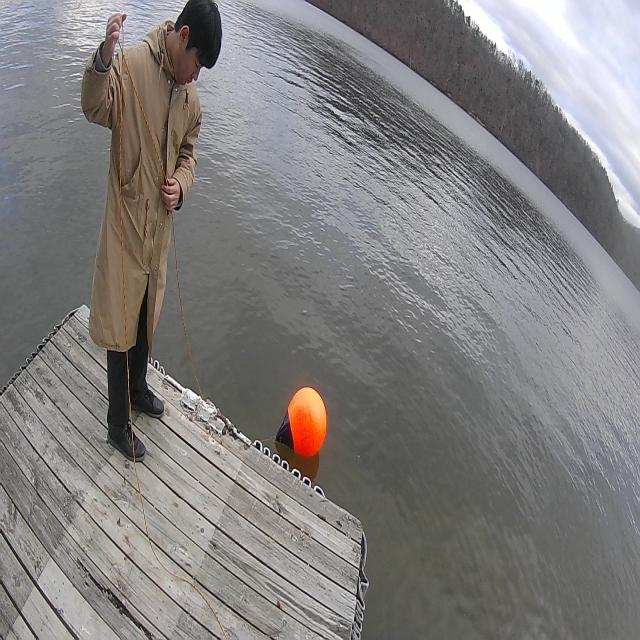Buoy: (274, 383, 331, 465)
